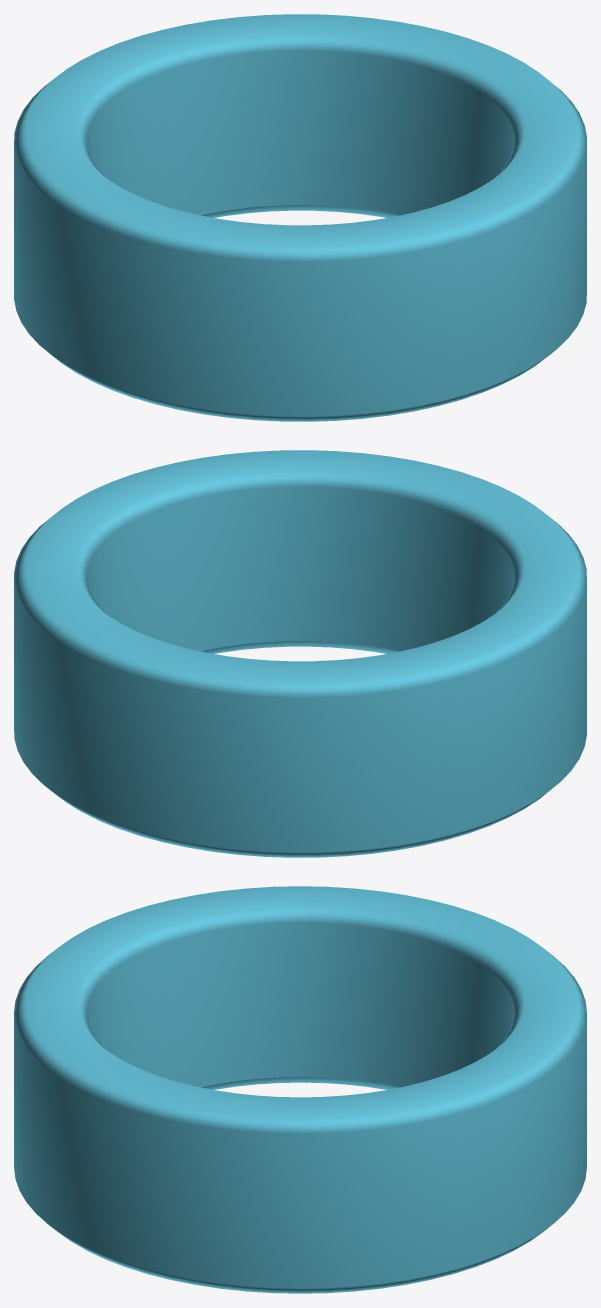
The picture shows the model from 3 angles, top to bottom: view 1: azimuth 30°, elevation 25°; view 2: azimuth 150°, elevation 25°; view 3: azimuth 270°, elevation 25°; orthographic projection.
Visible parts, largest first — view 1: seal_body; view 2: seal_body; view 3: seal_body.
Part boxes in pixels (x1,y1,x2,y2): seal_body: (14, 14, 586, 421); seal_body: (14, 450, 586, 857); seal_body: (14, 886, 586, 1293).
Bounding box in the file's own units: 0.0219 × 0.0074 × 0.0219.
